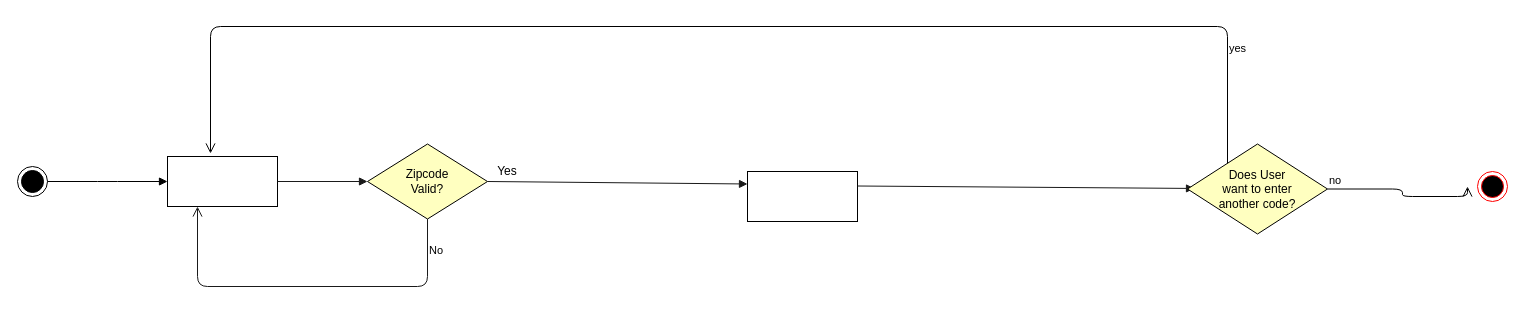
Some shapes in this 1525 by 314 pixel diagram are drawn without their labels. The shapes that lost their labels are listed below. From the top down, each one's centre as x and y in pixels, then its label:
At point (222, 181): "Enter Zipcode".
At point (802, 196): "Display Local Map".
